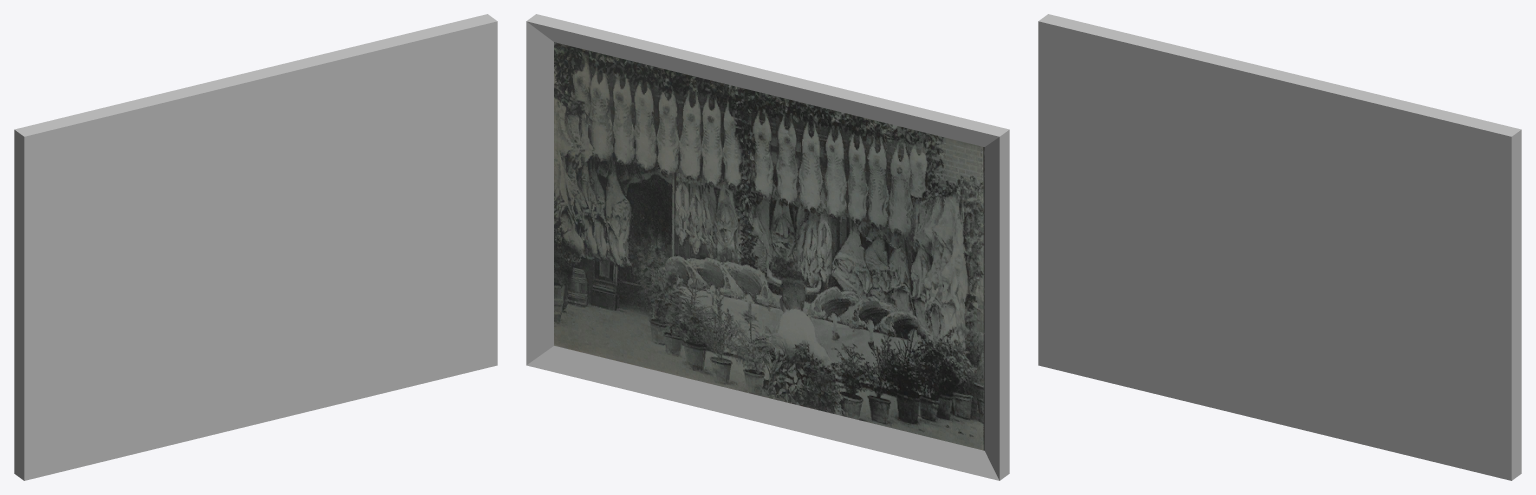
Rendered from picture03.DAE.
3 views of the same model, side by side, from view 1: azimuth 30°, elevation 25°; view 2: azimuth 150°, elevation 25°; view 3: azimuth 330°, elevation 25° (orthographic).
Parts seen in each view (by area): view 1: Object002; view 2: Object003, Object002; view 3: Object002.
Boxes of the visible parts, x1,y1,x2,y2 form: Object002: (14,14,497,480); Object003: (554,42,984,450); Object002: (526,14,1009,480); Object002: (1038,14,1521,480).
Size of the model in its own units: 0.3118 by 0.0114 by 0.2166.
